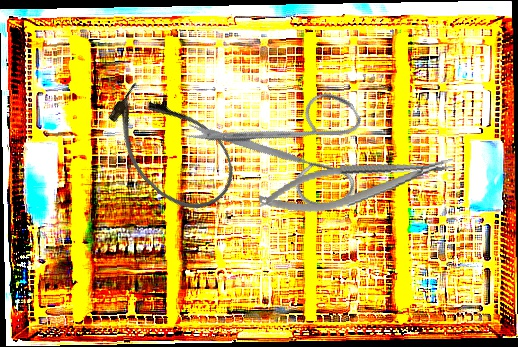Cannula: (90, 69, 251, 228)
Iris Scissors: (180, 48, 393, 254)
Needle Holder: (255, 147, 459, 222)
